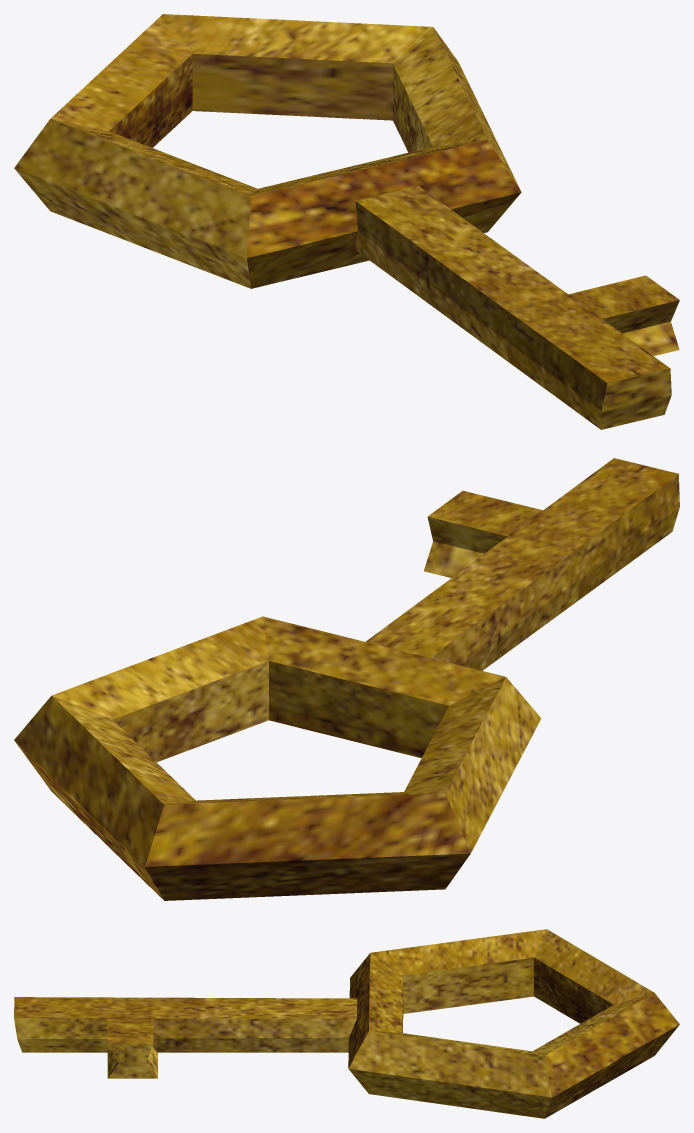
The model's file is Key.fbx.
3 views of the same model, one above another, from view 1: azimuth 30°, elevation 25°; view 2: azimuth 150°, elevation 25°; view 3: azimuth 270°, elevation 25° (orthographic). The views are drawn at different scales.
Parts seen in each view (by area): view 1: Key; view 2: Key; view 3: Key.
Part boxes in pixels (bbox=[...]): Key: bbox=[14, 14, 679, 429]; Key: bbox=[14, 458, 679, 900]; Key: bbox=[14, 929, 679, 1118].
Bounding box in the file's own units: 238 × 47.55 × 455.
